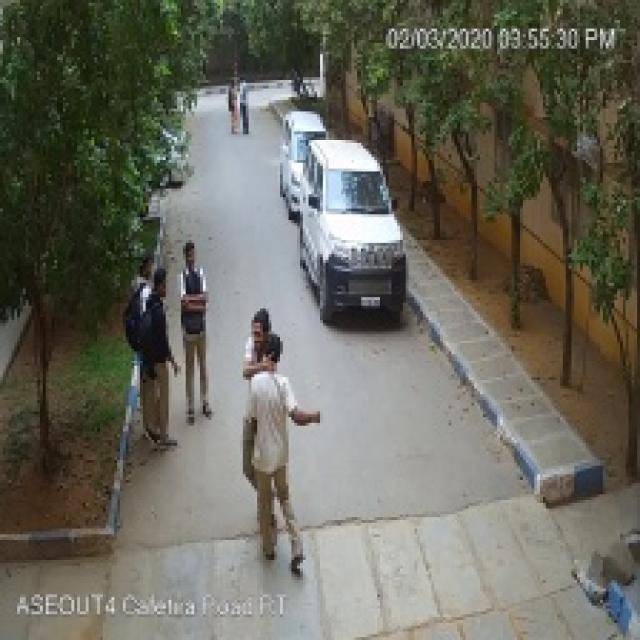fight: (213, 305, 341, 604)
